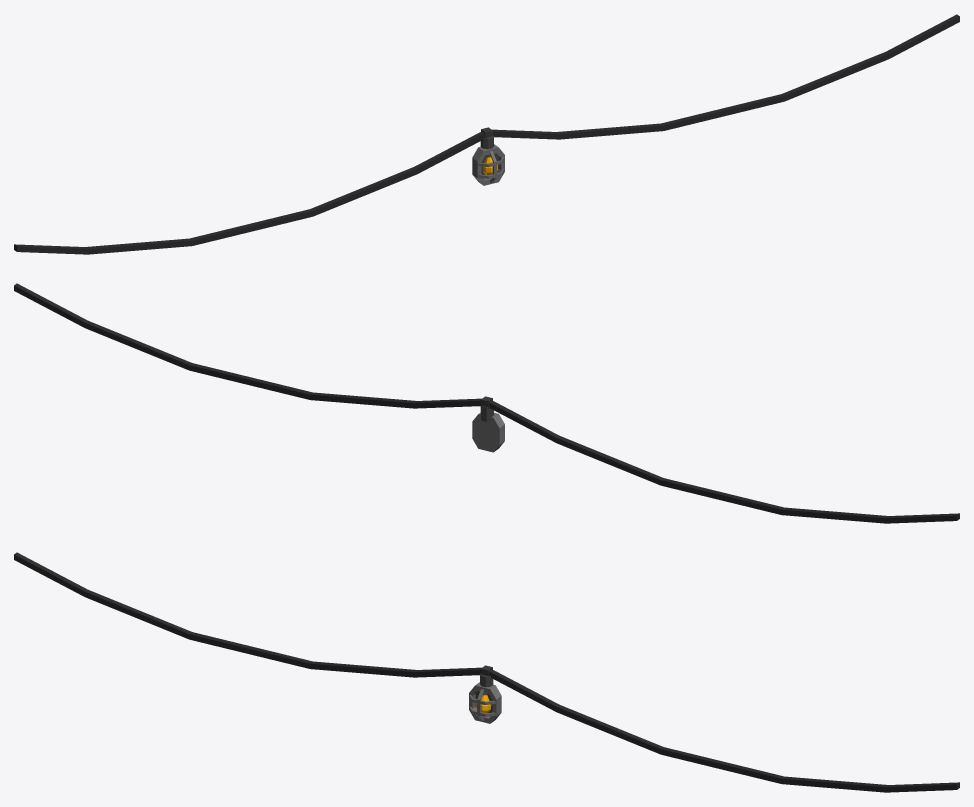
The model's file is WallDecor_11.fbx.
The picture shows the model from 3 angles, top to bottom: view 1: azimuth 30°, elevation 25°; view 2: azimuth 150°, elevation 25°; view 3: azimuth 330°, elevation 25°; orthographic projection.
Visible parts, largest first — view 1: WallDecor_11; view 2: WallDecor_11; view 3: WallDecor_11.
Part boxes in pixels (box(x1,y1,x2,y2)): WallDecor_11: box(14, 14, 959, 254); WallDecor_11: box(14, 283, 959, 523); WallDecor_11: box(14, 552, 959, 792).
Bounding box in the file's own units: 500 × 25.84 × 10.24.
